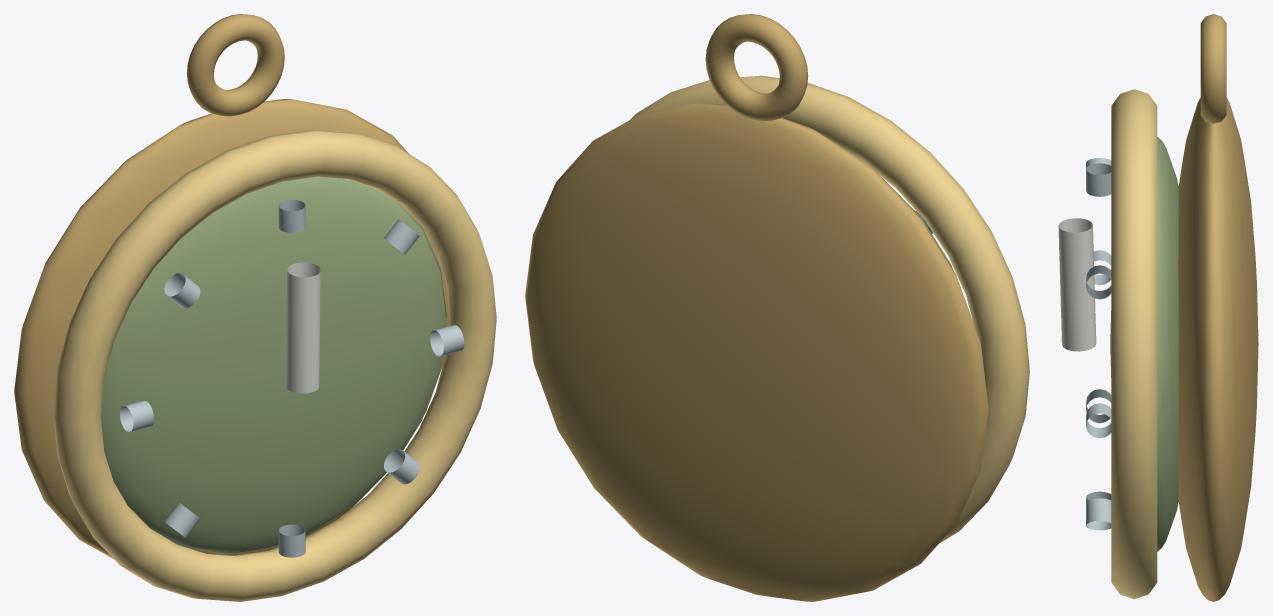
File: Ionia_EarthCompass_REVIEW.glb
The picture shows the model from 3 angles, left to right: view 1: azimuth 30°, elevation 25°; view 2: azimuth 150°, elevation 25°; view 3: azimuth 270°, elevation 25°; orthographic projection. The views are drawn at different scales.
Visible parts, largest first — view 1: EarthCompass; view 2: EarthCompass; view 3: EarthCompass.
Part boxes in pixels (x1=…): EarthCompass: x1=14, y1=14, x2=496, y2=601; EarthCompass: x1=525, y1=14, x2=1029, y2=601; EarthCompass: x1=1058, y1=14, x2=1258, y2=601.
Size of the model in its own units: 0.15 by 0.179 by 0.058.
